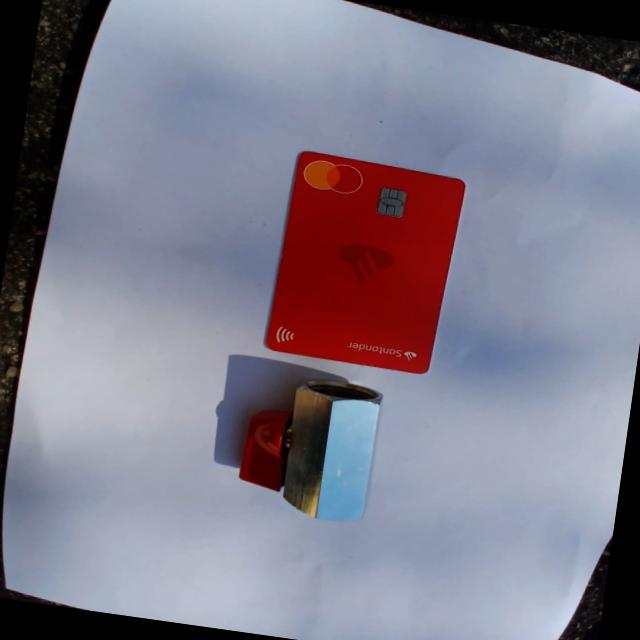cartao: (268, 150, 465, 376)
rosca_interna: (236, 368, 383, 526)
